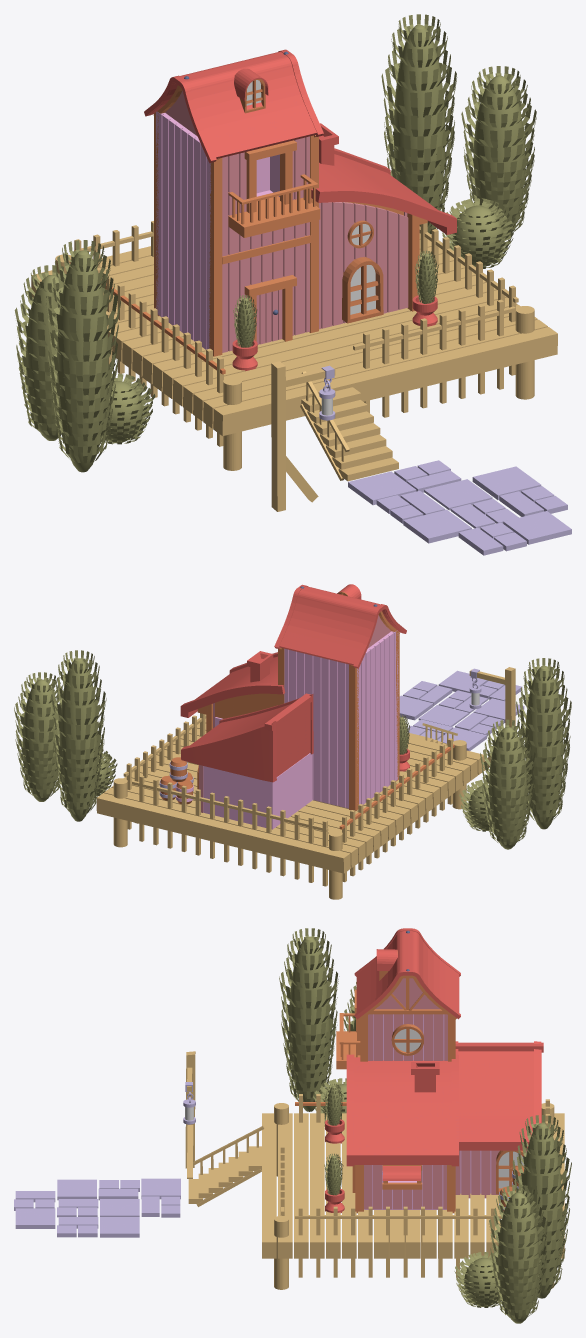
File: pink-transformed.glb
The picture shows the model from 3 angles, top to bottom: view 1: azimuth 30°, elevation 25°; view 2: azimuth 150°, elevation 25°; view 3: azimuth 270°, elevation 25°; orthographic projection. The views are drawn at different scales.
Parts seen in each view (by area): view 1: Cube.001_roof_0; view 2: Cube.001_roof_0; view 3: Cube.001_roof_0.
Boxes of the visible parts, x1,y1,x2,y2 form: Cube.001_roof_0: (14, 14, 571, 555); Cube.001_roof_0: (14, 584, 571, 899); Cube.001_roof_0: (14, 928, 571, 1323).
Size of the model in its own units: 12.8 by 6.46 by 12.74.
Materials: 1 (1 with a texture image).
